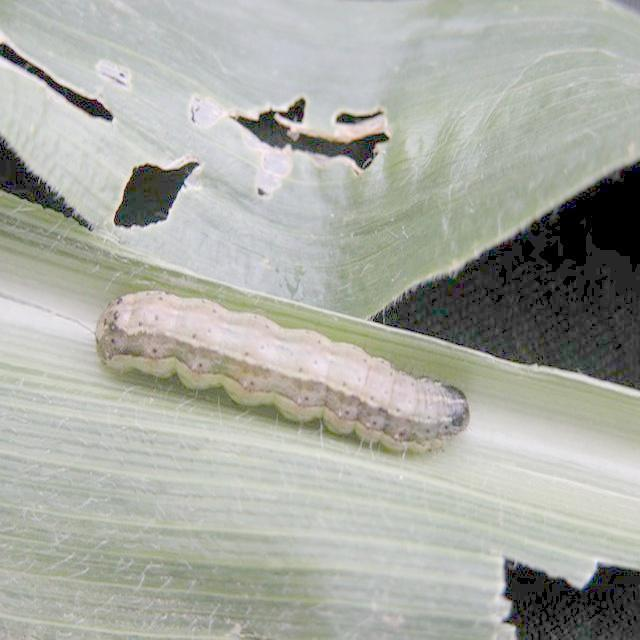gusano_cogollero: (100, 285, 476, 463)
